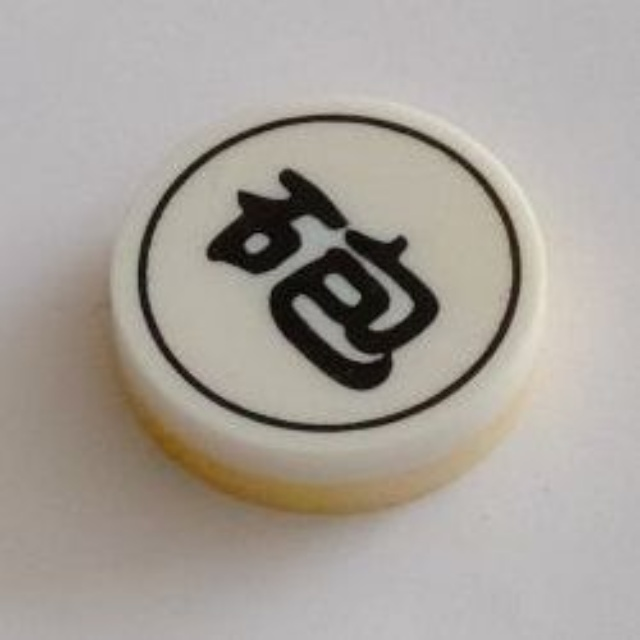black_phao: (101, 90, 560, 525)
